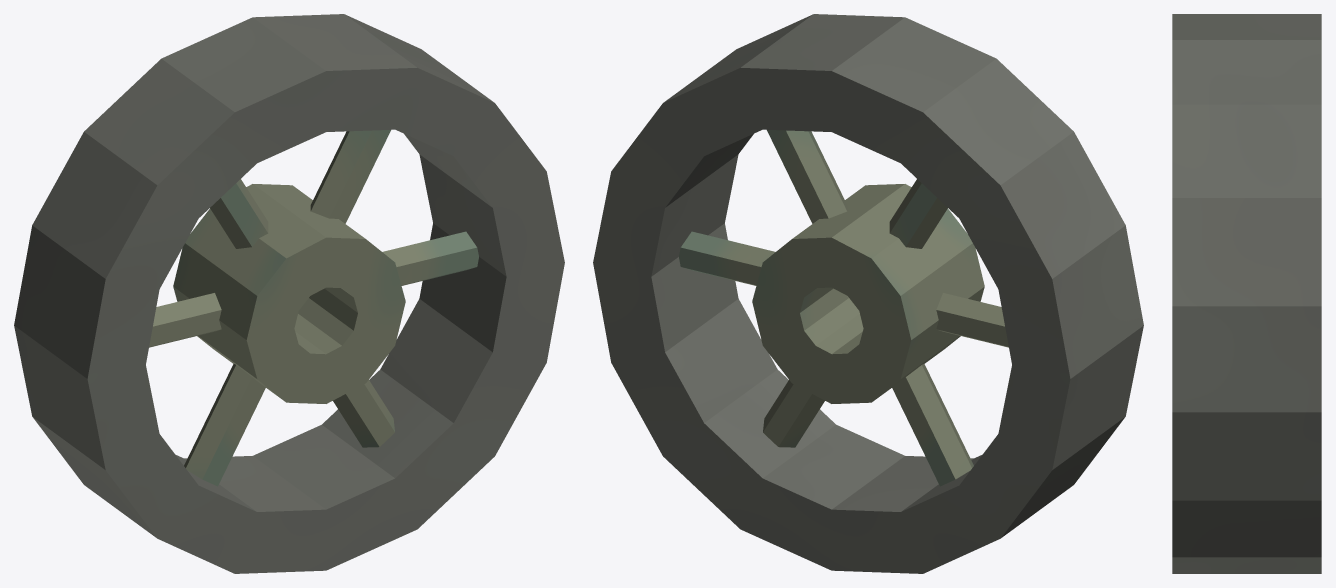
File: WarrensC_PWC02_PumpFlywheel_Mars_SM.fbx
The picture shows the model from 3 angles, left to right: view 1: azimuth 30°, elevation 25°; view 2: azimuth 150°, elevation 25°; view 3: azimuth 270°, elevation 25°; orthographic projection.
Parts seen in each view (by area): view 1: WarrensC_PWC02_PumpFlywheel_Mars_SM.001; view 2: WarrensC_PWC02_PumpFlywheel_Mars_SM.001; view 3: WarrensC_PWC02_PumpFlywheel_Mars_SM.001.
Boxes of the visible parts, <box> form: WarrensC_PWC02_PumpFlywheel_Mars_SM.001: <box>14,14,564,573</box>; WarrensC_PWC02_PumpFlywheel_Mars_SM.001: <box>593,14,1143,573</box>; WarrensC_PWC02_PumpFlywheel_Mars_SM.001: <box>1172,14,1321,573</box>.
Size of the model in its own units: 90 by 24 by 90.
